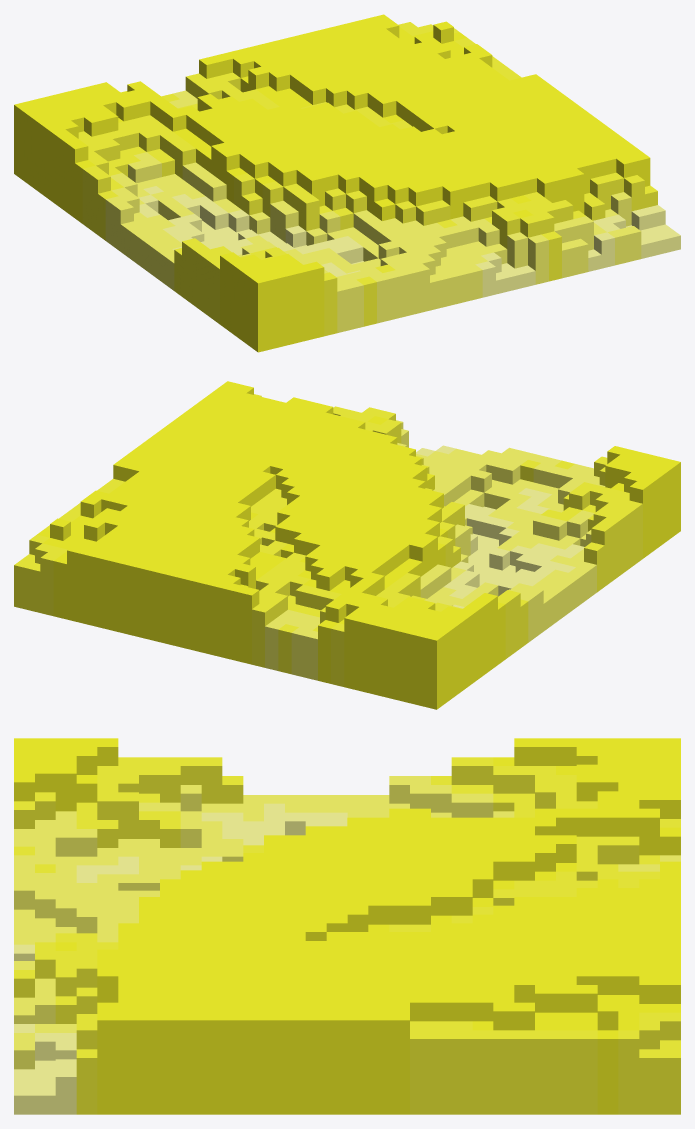
Rendered from Destert Map-23.obj.
3 views of the same model, one above another, from view 1: azimuth 30°, elevation 25°; view 2: azimuth 150°, elevation 25°; view 3: azimuth 270°, elevation 25° (orthographic). The views are drawn at different scales.
Size of the model in its own units: 3.2 by 0.5 by 3.2.
1 material, 1 textured.
